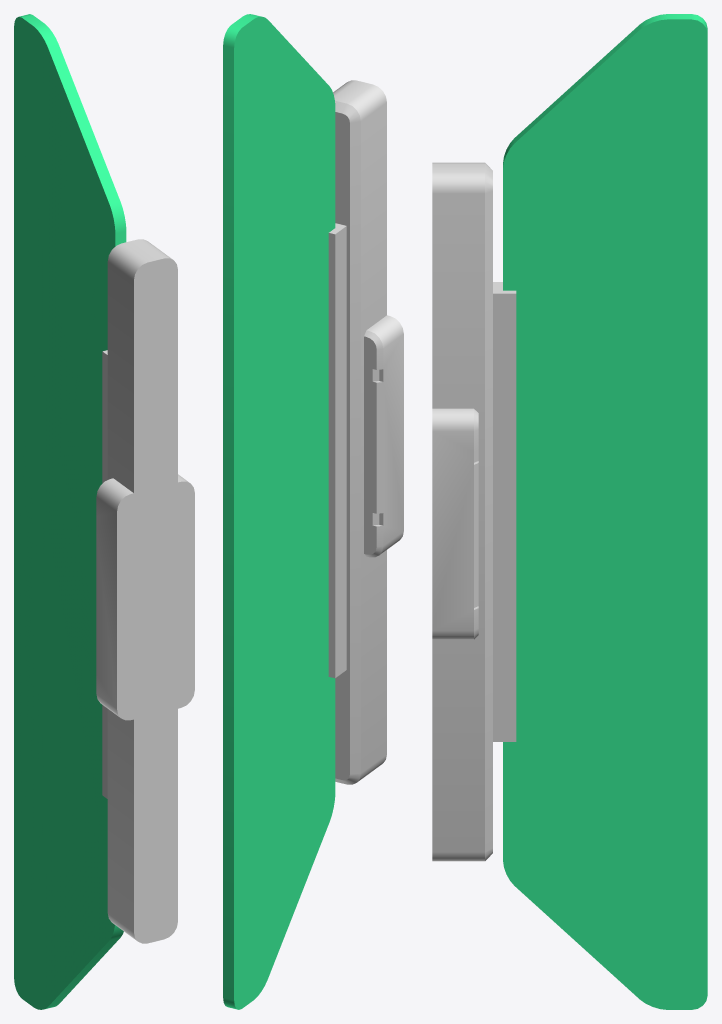
File: SM_MOD_Laser_Floater_WallGlass_01.fbx
The picture shows the model from 3 angles, left to right: view 1: azimuth 30°, elevation 25°; view 2: azimuth 150°, elevation 25°; view 3: azimuth 270°, elevation 25°; orthographic projection.
Visible parts, largest first — view 1: SM_MOD_Laser_Floater_WallGlass_01_LOD0; view 2: SM_MOD_Laser_Floater_WallGlass_01_LOD0; view 3: SM_MOD_Laser_Floater_WallGlass_01_LOD0.
Part boxes in pixels (x1,y1,x2,y2): SM_MOD_Laser_Floater_WallGlass_01_LOD0: (14,14,194,1009); SM_MOD_Laser_Floater_WallGlass_01_LOD0: (223,14,403,1009); SM_MOD_Laser_Floater_WallGlass_01_LOD0: (432,14,707,1009).
Size of what is drawn, in the model's own units: 28.24 by 340 by 85.66.
